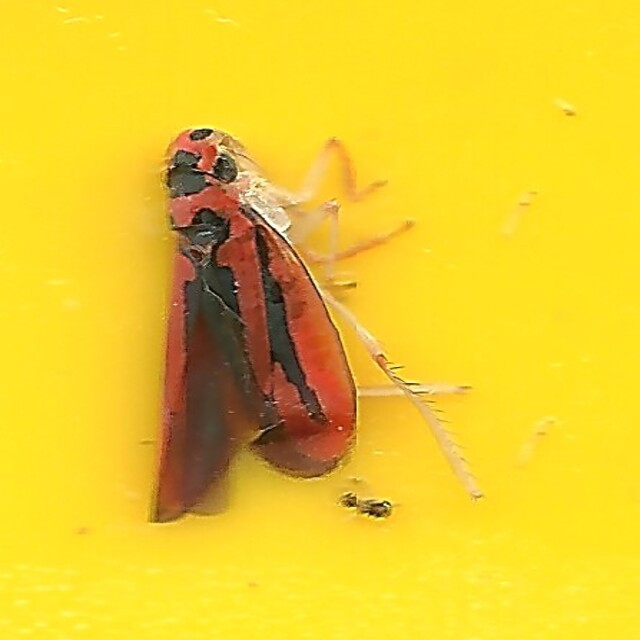Hymenoptera: (143, 115, 497, 525)
